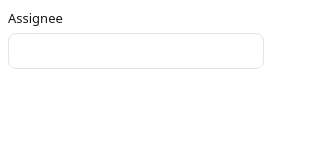
Test: Combobox › parts › Count is hidden while options load
The width and height of the screenshot is (320, 160).
Later steps or results of the test are not shown.
Type "a" into the dropdown labelled "Assignee" at (136, 51), box [8,33,264,69]
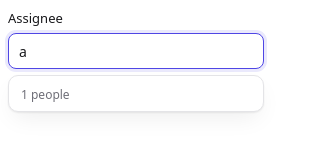
Now the text with test id "count" reads "1 people", box [21,86,70,103]
